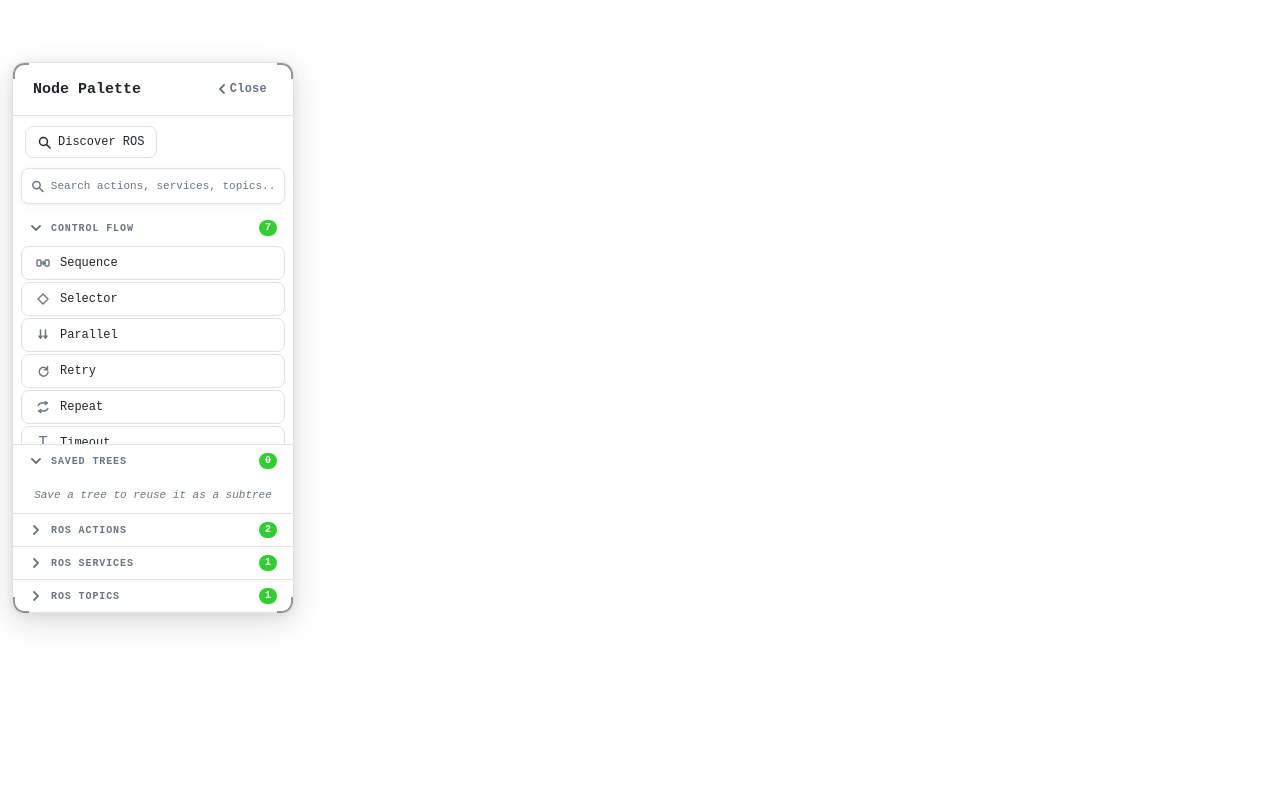
NodePalette › uses one search to filter actions, services, and topics by name and type
This screenshot has width=1280, height=800.
Type "setbool std_srvs" into the search field named "Search available ROS resources" at (163, 186), box x1=51 y1=169 x2=275 y2=203
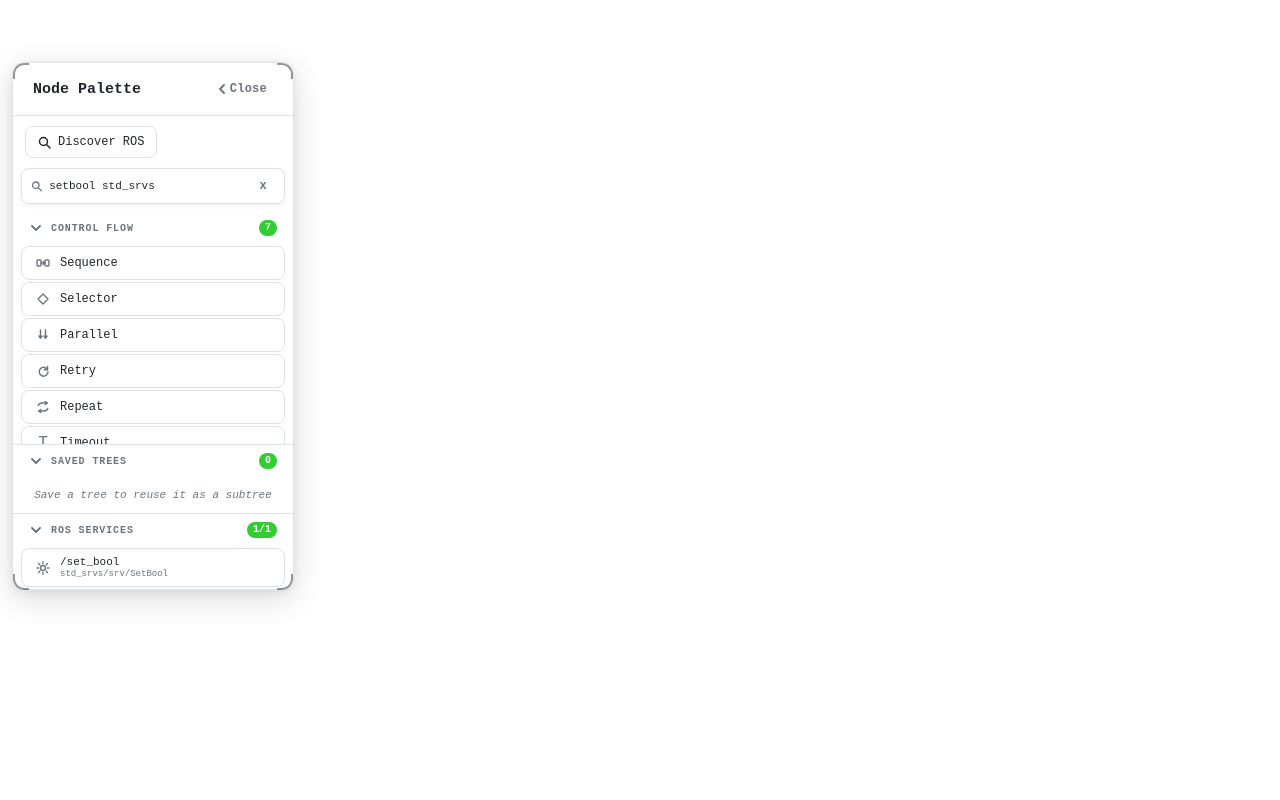
Check: the text "/set_bool" is shown, box x1=60 y1=556 x2=119 y2=568
Check: the text "ROS Actions" is gone
Check: the text "ROS Topics" is gone
